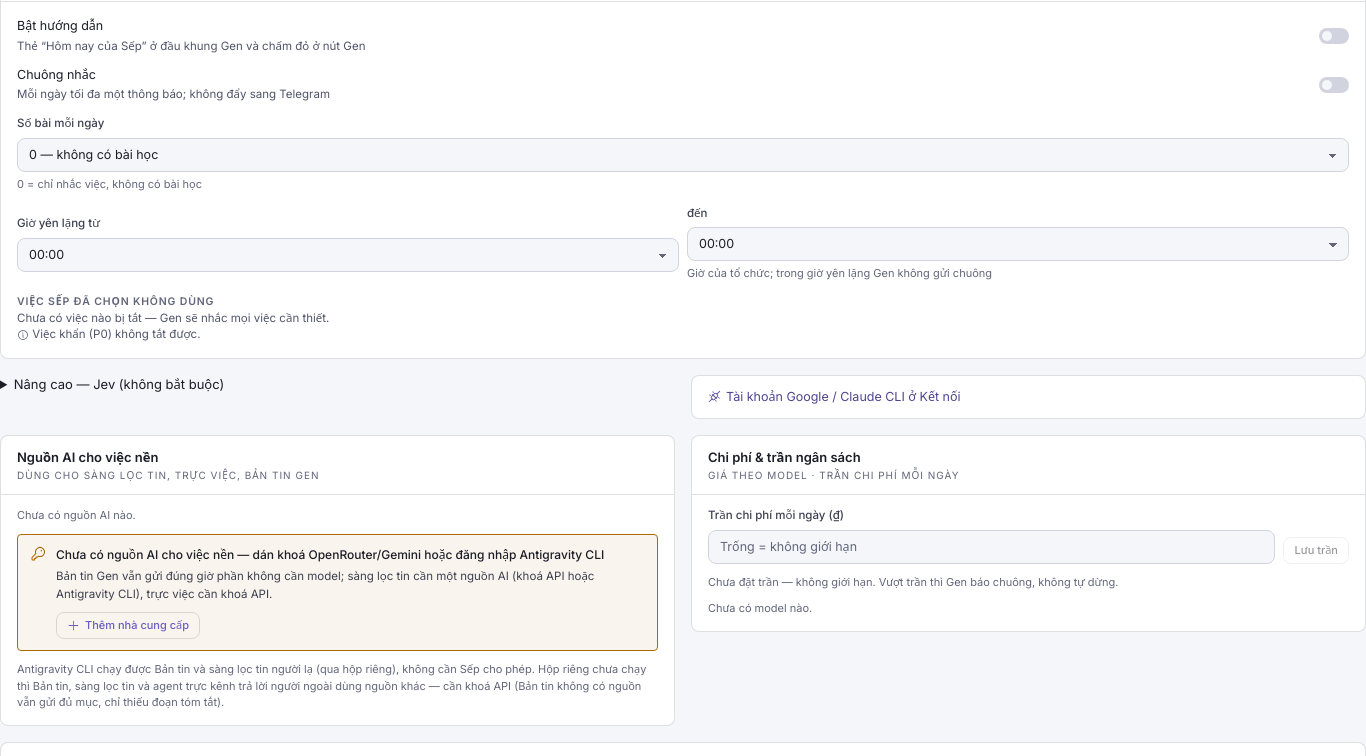
Test: v0.1.39 — Jev "Kiểm tra 1 lần" và thu vào "Nâng cao" khi lỗi › bấm "Kiểm tra 1 lần" thành công: nút đổi thành "Đã kiểm tra", summary không báo lỗi
(page scrolled)
Click the heading "Nâng cao — Jev (không bắt buộc)" at (119, 384), box [14, 376, 224, 392]
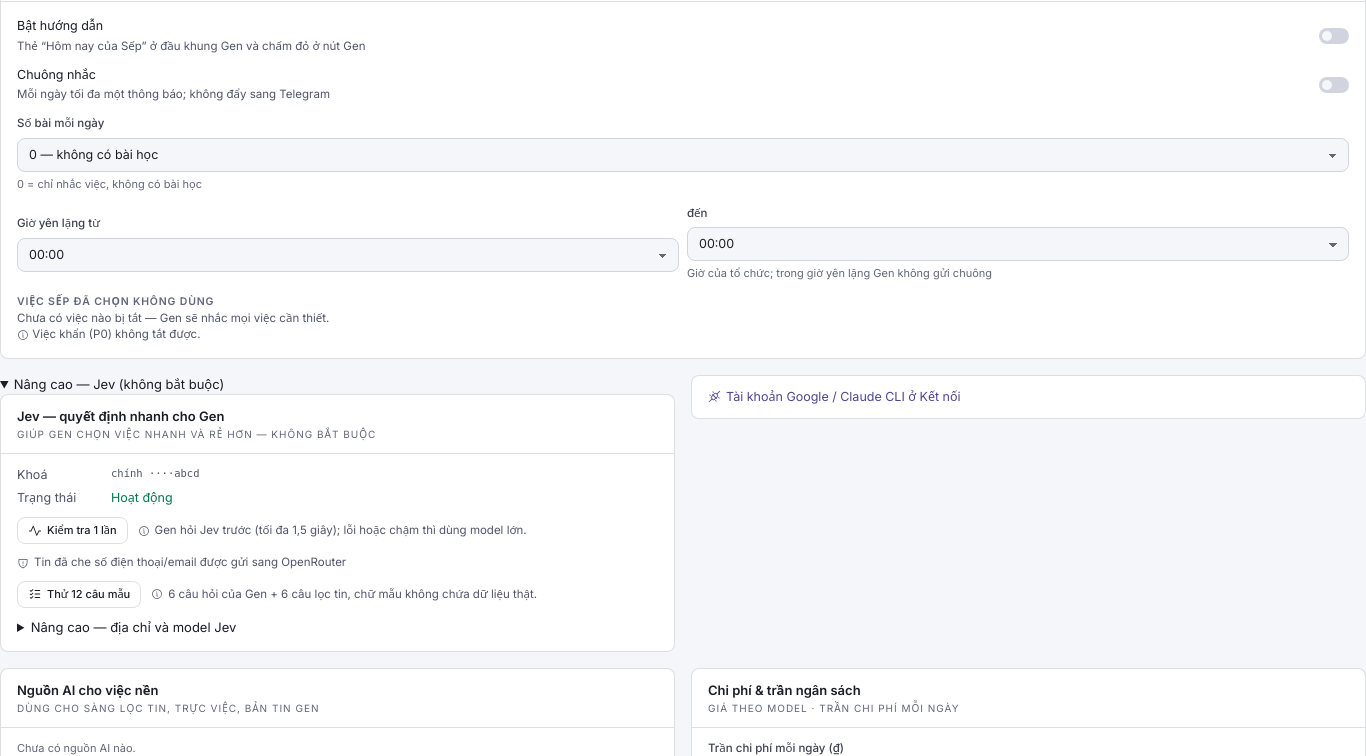
Click the button "Kiểm tra 1 lần" at (72, 531), box [17, 517, 128, 544]
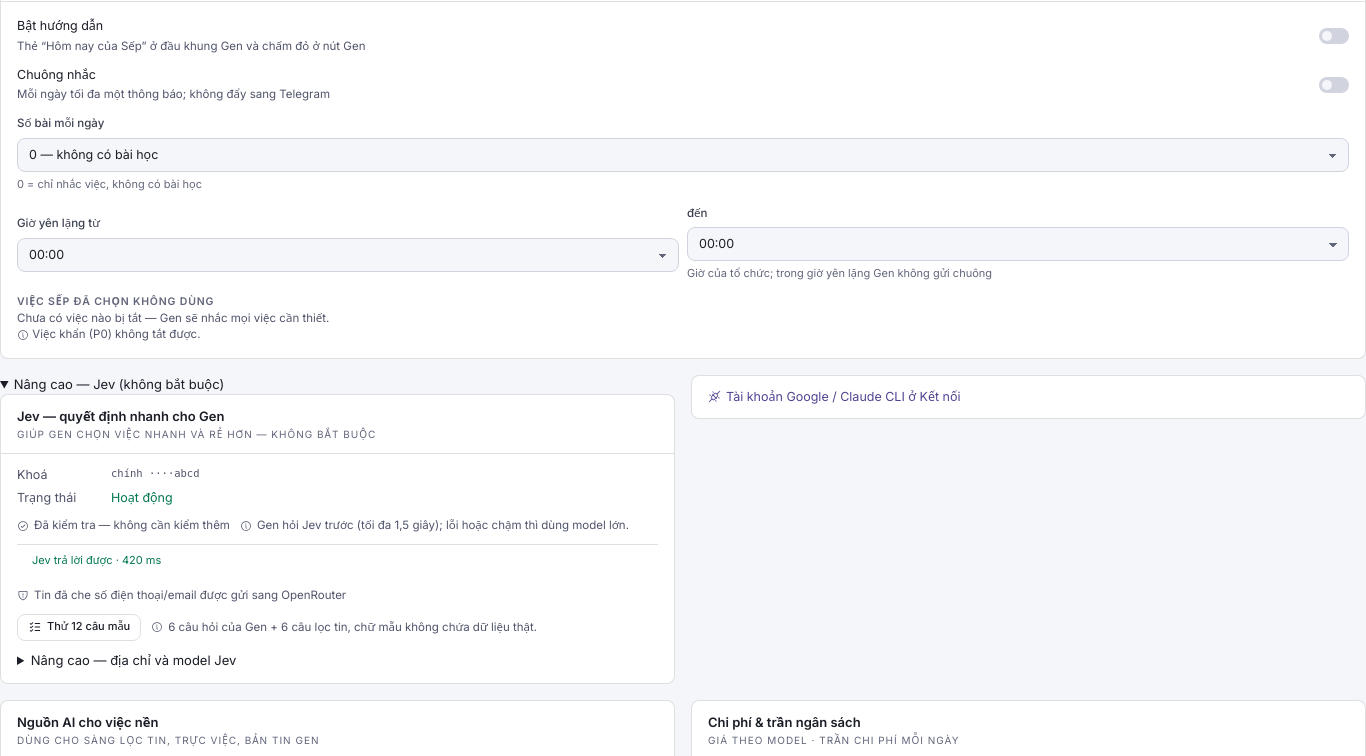
Expected: the text "Đã kiểm tra — không cần kiểm thêm" is shown, [17, 517, 230, 534]
Expected: the text "Jev trả lời được · 420 ms" is shown, [17, 544, 658, 577]
Expected: the button "Kiểm tra 1 lần" is gone
